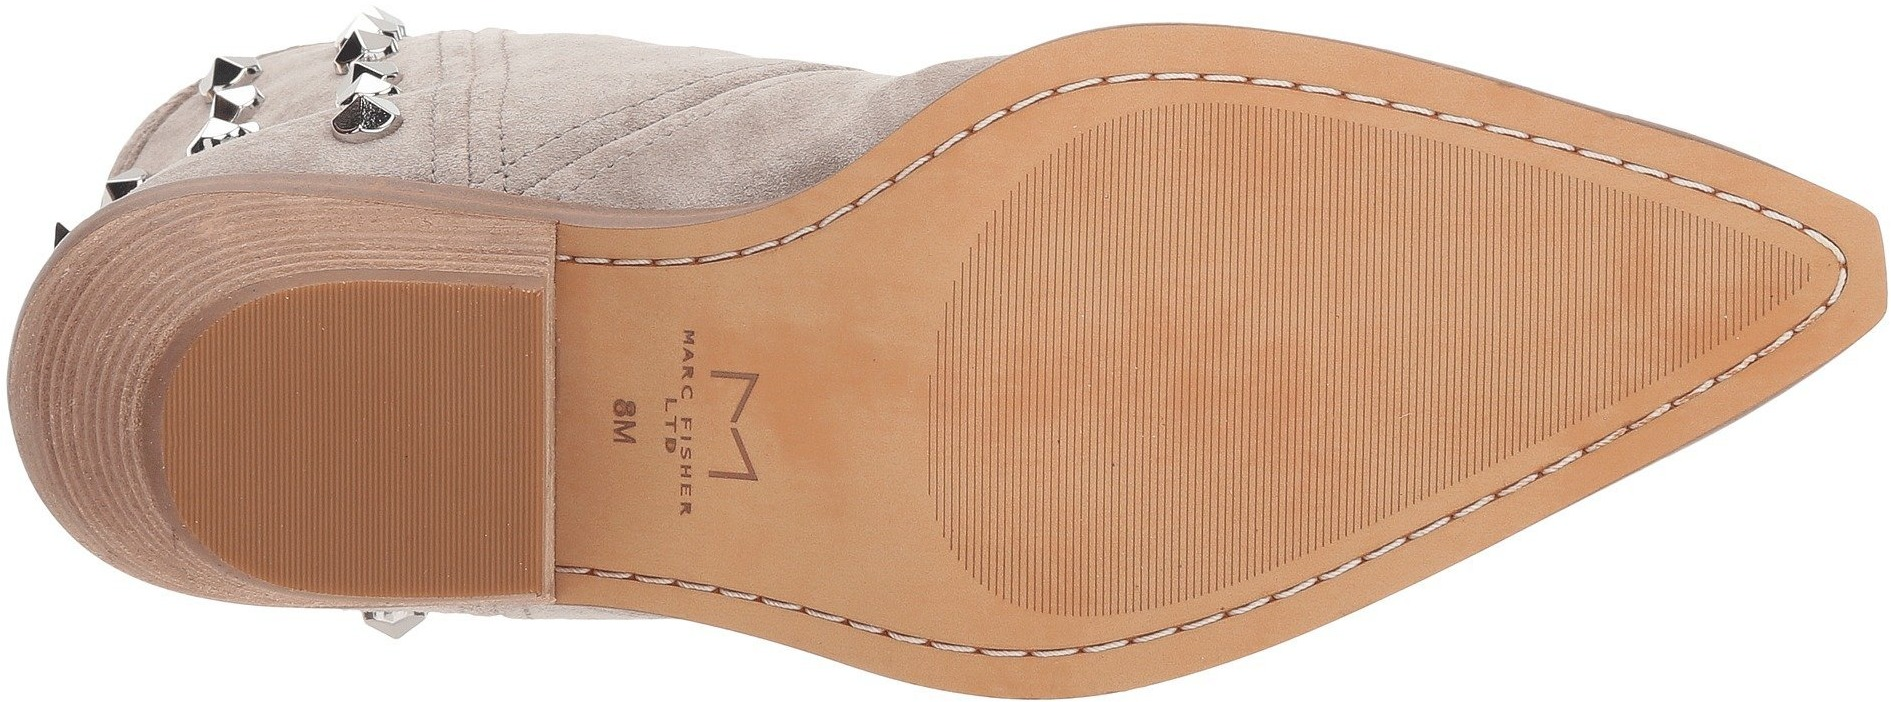other: (1199, 216, 1458, 475), (936, 315, 1189, 550), (1473, 179, 1678, 375), (198, 350, 377, 531), (384, 345, 539, 502), (1035, 165, 1195, 308)
